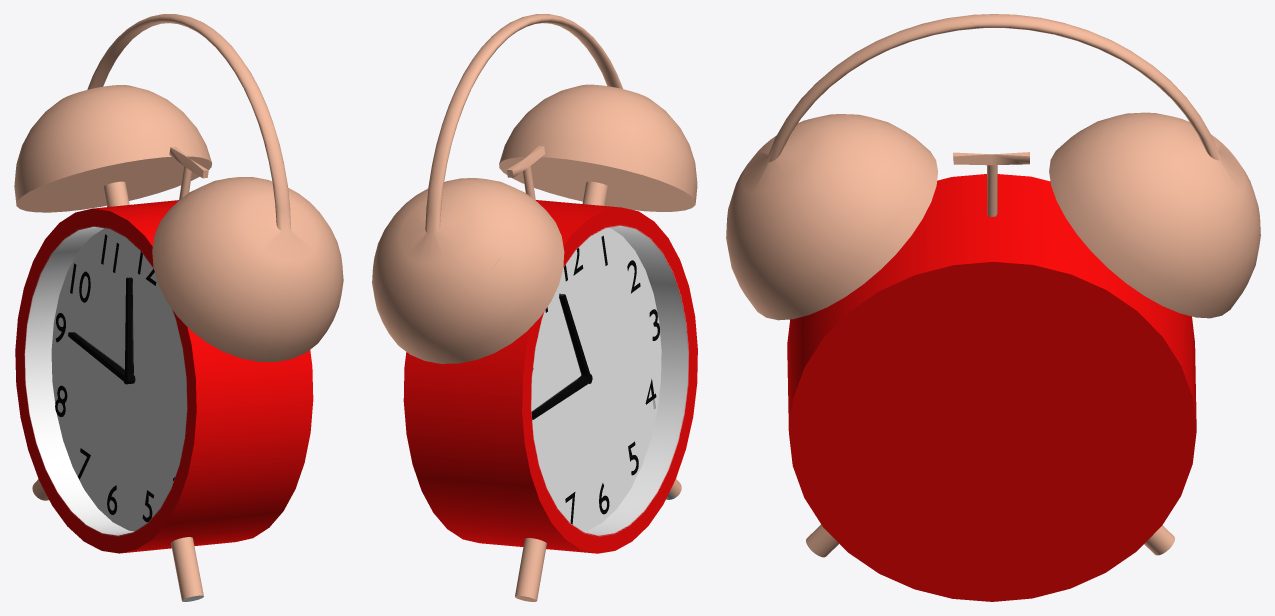
The model's file is alarm_clock.glb.
The picture shows the model from 3 angles, left to right: view 1: azimuth 30°, elevation 25°; view 2: azimuth 150°, elevation 25°; view 3: azimuth 270°, elevation 25°; orthographic projection. The views are drawn at different scales.
Parts seen in each view (by area): view 1: furnature_0; view 2: furnature_0; view 3: furnature_0.
Part boxes in pixels (x1,y1,x2,y2): furnature_0: (14, 14, 343, 601); furnature_0: (372, 14, 697, 601); furnature_0: (726, 14, 1260, 601).
Size of the model in its own units: 0.1064 by 0.2775 by 0.2279.
Materials: 1 (1 with a texture image).
